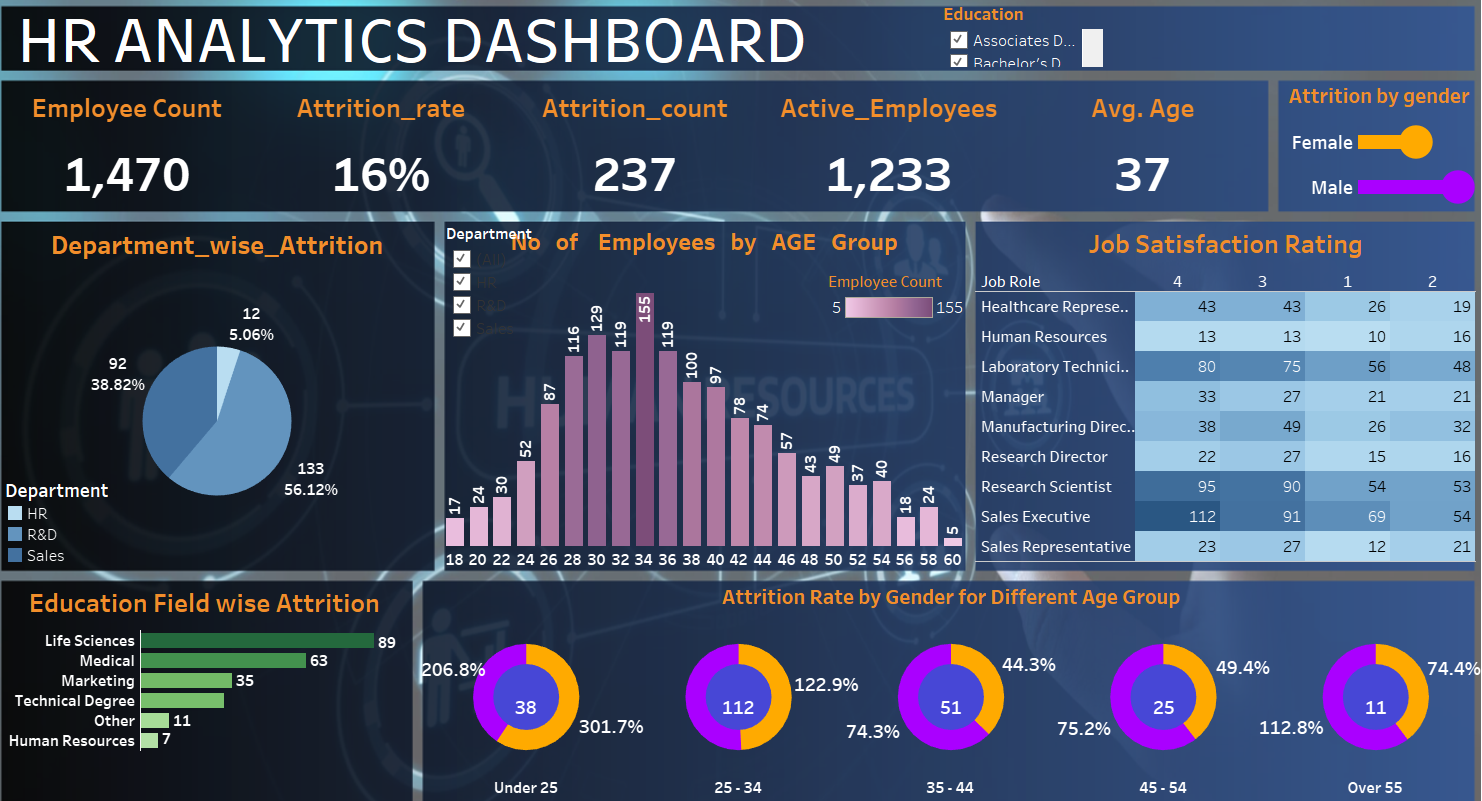

The page's visual inventory and layout, read from the dashboard file:
{"tool":"tableau","page":{"name":"HR_Analytics_Dashboard","canvas":[1000,1000],"units":"permille","ordinal":0},"visuals":[{"type":"image","param":"Image/HR background.pptx.png","box":[5.3,9.3,989.5,981.4]},{"type":"filter","title":"Department_wise_attrittion","param":"[federated.0q3of7y09unf900zz4dww06ag7id].[none:Education:nk]","box":[634.9,16.3,105.3,75.6]},{"type":"text","box":[23.7,26.7,538.8,61.6]},{"type":"worksheet","title":"Attrition_by_Gender","mark":"Automatic","rows":["Gender"],"cols":["Calculation_638666744386138112","Calculation_638666744386138112"],"box":[855.3,103.5,132.9,153.5]},{"type":"worksheet","title":"KPI","mark":"Automatic","box":[14.5,110.5,835.5,150]},{"type":"worksheet","title":"No_of_Employees_by_AGE_Group","mark":"Automatic","rows":["Employee Count"],"cols":["Age (bin)"],"box":[305.9,270.9,343.4,407]},{"type":"worksheet","title":"Job Satisfaction Rating","mark":"Square","rows":["Job Role"],"cols":["Job Satisfaction"],"box":[655.9,272.1,331.6,404.7]},{"type":"worksheet","title":"Department_wise_attrittion","mark":"Pie","box":[13.2,273.3,288.2,403.5]},{"type":"filter","title":"Department_wise_attrittion","param":"[federated.0q3of7y09unf900zz4dww06ag7id].[none:Department:nk]","box":[307.9,273.3,105.3,139.5]},{"type":"legend","title":"No_of_Employees_by_AGE_Group","param":"[federated.0q3of7y09unf900zz4dww06ag7id].[sum:Employee Count:qk]","box":[559.2,329.1,92.1,102.3]},{"type":"legend","title":"Department_wise_attrittion","param":"[federated.0q3of7y09unf900zz4dww06ag7id].[none:Department:nk]","box":[17.8,568.6,92.1,108.1]},{"type":"worksheet","title":"Attrition Rate by Gender for Different Age Group","mark":"Pie","rows":["Calculation_265993875287711747","Calculation_265993875287711747"],"cols":["CF_age band"],"box":[290.8,686.1,698.7,257]},{"type":"worksheet","title":"Education Field wise Attrition","mark":"Automatic","rows":["Education Field"],"cols":["Calculation_638666744386138112"],"box":[14.5,689.5,272.4,260.5]}]}

Visuals, with their boxes on the dashboard's canvas, which has no fixed pixel size, in thousandths of its width and height (x1, y1, x2, y2). These are canvas units, not pixel positions in the 1482x801 screenshot, which may show the page scaled, cropped or inside an application window:
image: 5:9:995:991
"Department_wise_attrittion" filter: 635:16:740:92
text: 24:27:562:88
"Attrition_by_Gender" worksheet: 855:104:988:257
"KPI" worksheet: 14:110:850:260
"No_of_Employees_by_AGE_Group" worksheet: 306:271:649:678
"Job Satisfaction Rating" worksheet (Square marks): 656:272:988:677
"Department_wise_attrittion" worksheet (Pie marks): 13:273:301:677
"Department_wise_attrittion" filter: 308:273:413:413
"No_of_Employees_by_AGE_Group" legend: 559:329:651:431
"Department_wise_attrittion" legend: 18:569:110:677
"Attrition Rate by Gender for Different Age Group" worksheet (Pie marks): 291:686:990:943
"Education Field wise Attrition" worksheet: 14:690:287:950
